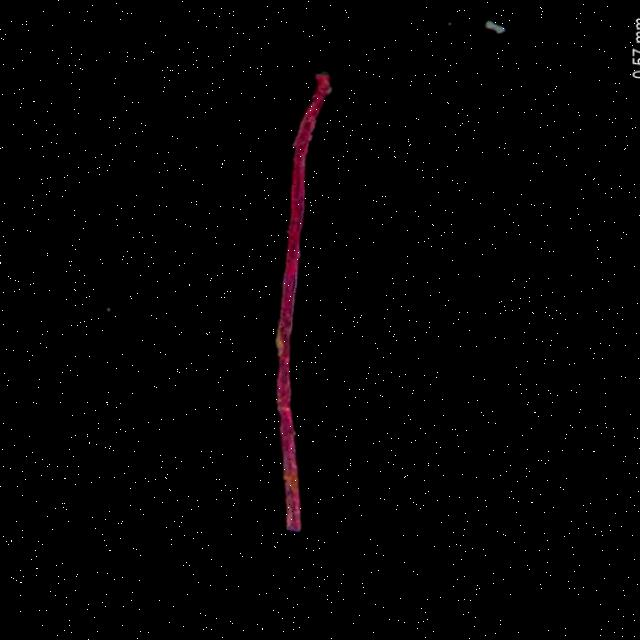Fibre: (276, 69, 352, 534)
